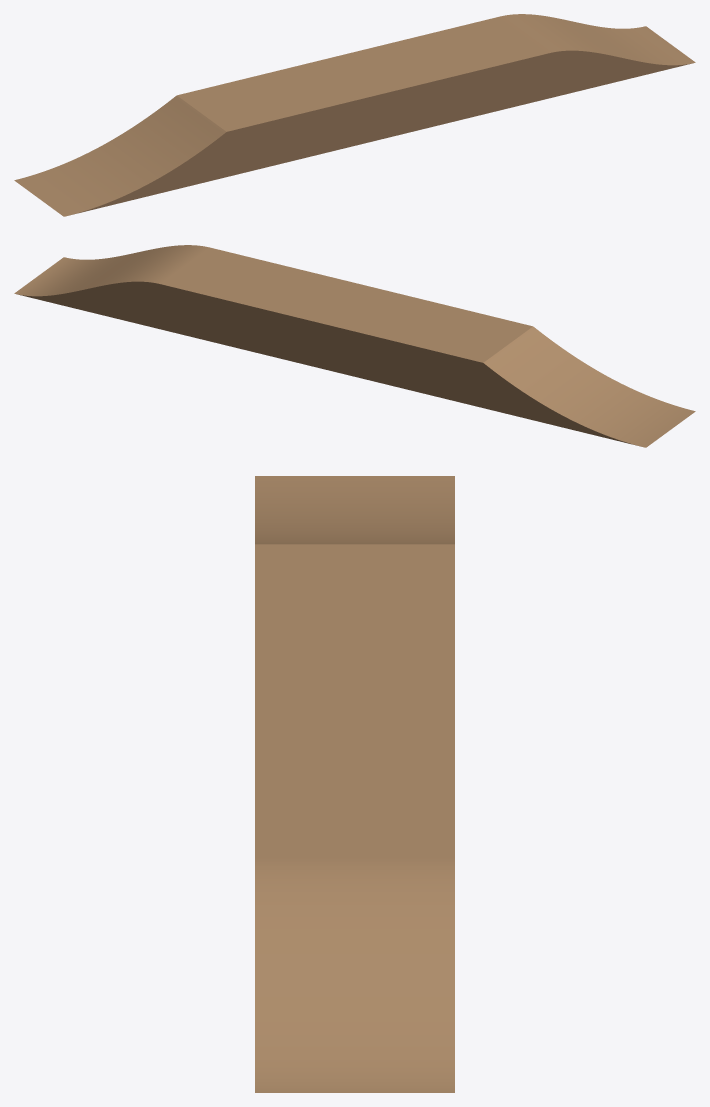
Rendered from SC_Prop_Tabletop.fbx.
3 views of the same model, one above another, from view 1: azimuth 30°, elevation 25°; view 2: azimuth 150°, elevation 25°; view 3: azimuth 270°, elevation 25° (orthographic). The views are drawn at different scales.
Visible parts, largest first — view 1: SC_Prop_Tabletop; view 2: SC_Prop_Tabletop; view 3: SC_Prop_Tabletop.
Part boxes in pixels (bbox=[...]): SC_Prop_Tabletop: bbox=[14, 14, 695, 216]; SC_Prop_Tabletop: bbox=[14, 245, 695, 447]; SC_Prop_Tabletop: bbox=[255, 476, 454, 1092].
Bounding box in the file's own units: 14.62 × 1 × 2.
